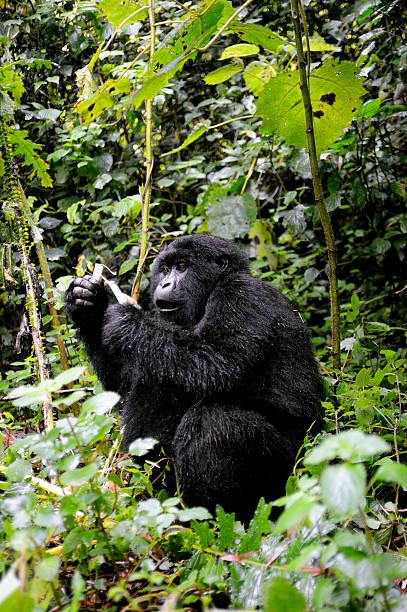goriile_montagne: (70, 234, 323, 498)
